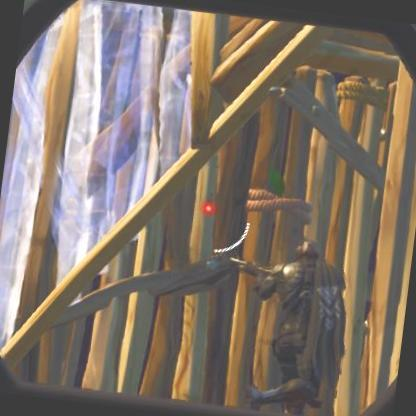person: (247, 243, 334, 394)
